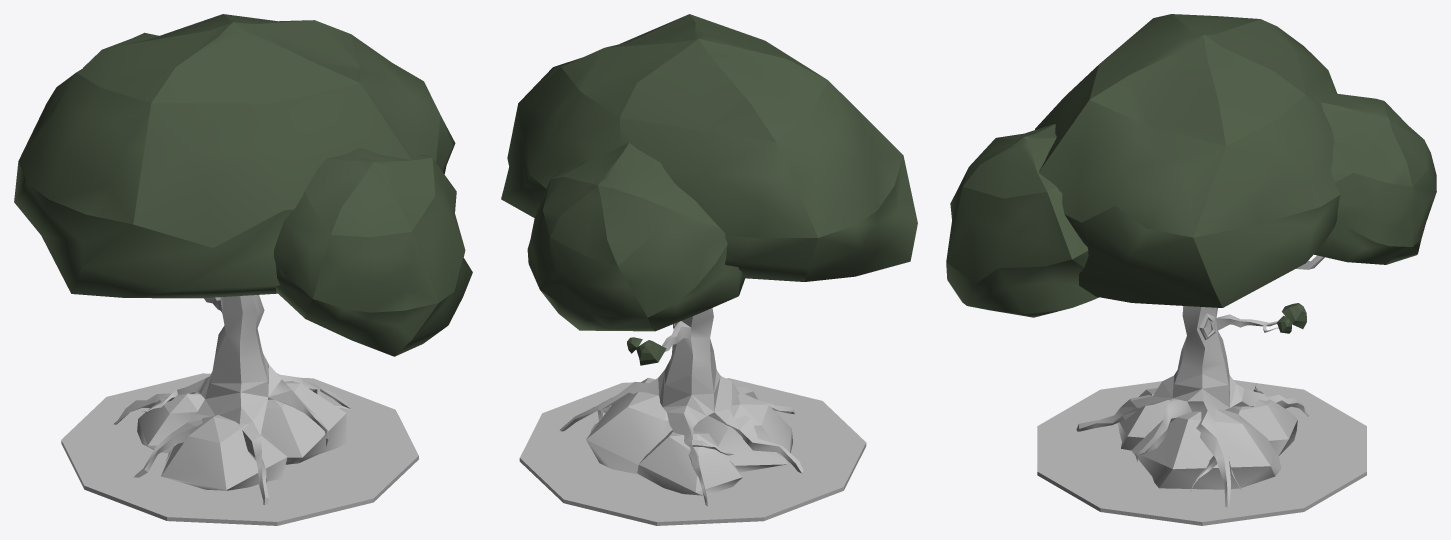
File: OakTree (1).fbx
3 views of the same model, side by side, from view 1: azimuth 30°, elevation 25°; view 2: azimuth 150°, elevation 25°; view 3: azimuth 270°, elevation 25° (orthographic). The views are drawn at different scales.
Parts seen in each view (by area): view 1: Leafes, Ground, Trunk; view 2: Leafes, Ground, Trunk; view 3: Leafes, Ground, Trunk.
Part boxes in pixels (x1,y1,x2,y2): Leafes: [14, 14, 472, 356]; Ground: [61, 373, 418, 525]; Trunk: [113, 295, 357, 505]; Leafes: [501, 14, 917, 365]; Ground: [519, 377, 866, 525]; Trunk: [560, 308, 804, 506]; Leafes: [946, 14, 1436, 333]; Ground: [1037, 380, 1366, 525]; Trunk: [1076, 255, 1324, 507].
Size of the model in its own units: 23.72 by 25.82 by 27.12.
